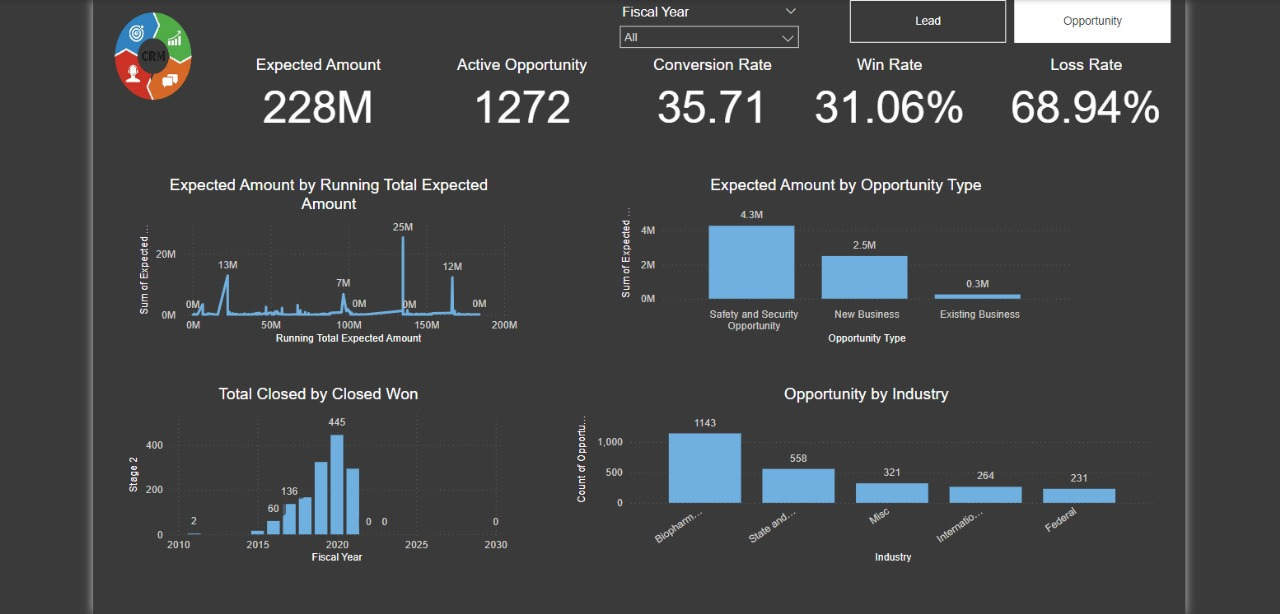

The dashboard page shown, as its layout file describes it:
{"tool":"tableau","page":{"name":"Opportunitiy","canvas":[1000,1000],"units":"permille","ordinal":1},"visuals":[{"type":"image","param":"Image/CRM_img-removebg-preview.png","box":[48.6,18.7,152.3,136.1]},{"type":"text","box":[266.8,22.5,419.7,111.1]},{"type":"filter","title":"Active Opp","param":"[federated.1vvaqhi0y893e312hyp560szctv0].[yr:Fiscal Year (Opportunity) (date):ok","box":[810,64.9,110.7,66.2]},{"type":"text","box":[359.6,113.6,204.7,71.2]},{"type":"worksheet","title":"Active Opp","mark":"Automatic","box":[252.7,163.6,170.8,123.6]},{"type":"worksheet","title":"Expected Amount","mark":"Automatic","box":[84.5,179.8,149.7,118.6]},{"type":"worksheet","title":"opp.Conv Rate","mark":"Automatic","box":[430.6,181,168.9,106.1]},{"type":"worksheet","title":"Loss Rate","mark":"Automatic","box":[724.2,181,154.2,99.9]},{"type":"worksheet","title":"Win Rate","mark":"Automatic","box":[601.4,182.3,98.5,86.1]},{"type":"worksheet","title":"Running total vs Forecast over commit","mark":"Bar","rows":["Forecast Amount"],"cols":["Fiscal Year (Opportunity) (date)"],"box":[325,303.4,314.8,333.3]},{"type":"worksheet","title":"Running Total Active Vs Total Opp over Time","mark":"Automatic","rows":["Calculation_1490128575672791055","Calculation_1490128575656656908"],"cols":["Fiscal Year (Opportunity) (date)"],"box":[8.3,305.9,309.7,333.3]},{"type":"worksheet","title":"Opp by Industry","mark":"Automatic","rows":["Calculation_1490128575656656908"],"cols":["Industry (Opportunity)"],"box":[647.5,308.4,332.1,325.8]},{"type":"worksheet","title":"Exp.Amt by opp Type","mark":"Circle","box":[671.8,649.2,294.9,337.1]},{"type":"worksheet","title":"Closed Won Vs Total Opportunities over Time","mark":"Automatic","rows":["Calculation_1490128575656656908","Calculation_1490128575679717393"],"cols":["Fiscal Year (Opportunity) (date)"],"box":[8.3,650.4,319.3,333.3]},{"type":"worksheet","title":"Closed Won vs Total Closed over Time","mark":"Automatic","rows":["Calculation_1490128575679717393","Calculation_1490128575682478099"],"cols":["Fiscal Year (Opportunity) (date)"],"box":[334,656.7,315.4,333.3]}]}

Visuals, with their boxes on the dashboard's canvas, which has no fixed pixel size, in thousandths of its width and height (x1, y1, x2, y2). These are canvas units, not pixel positions in the 1280x614 screenshot, which may show the page scaled, cropped or inside an application window:
image: <bbox>49, 19, 201, 155</bbox>
text: <bbox>267, 22, 686, 134</bbox>
"Active Opp" filter: <bbox>810, 65, 921, 131</bbox>
text: <bbox>360, 114, 564, 185</bbox>
"Active Opp" worksheet: <bbox>253, 164, 424, 287</bbox>
"Expected Amount" worksheet: <bbox>84, 180, 234, 298</bbox>
"opp.Conv Rate" worksheet: <bbox>431, 181, 600, 287</bbox>
"Loss Rate" worksheet: <bbox>724, 181, 878, 281</bbox>
"Win Rate" worksheet: <bbox>601, 182, 700, 268</bbox>
"Running total vs Forecast over commit" worksheet (Bar marks): <bbox>325, 303, 640, 637</bbox>
"Running Total Active Vs Total Opp over Time" worksheet: <bbox>8, 306, 318, 639</bbox>
"Opp by Industry" worksheet: <bbox>648, 308, 980, 634</bbox>
"Exp.Amt by opp Type" worksheet (Circle marks): <bbox>672, 649, 967, 986</bbox>
"Closed Won Vs Total Opportunities over Time" worksheet: <bbox>8, 650, 328, 984</bbox>
"Closed Won vs Total Closed over Time" worksheet: <bbox>334, 657, 649, 990</bbox>
